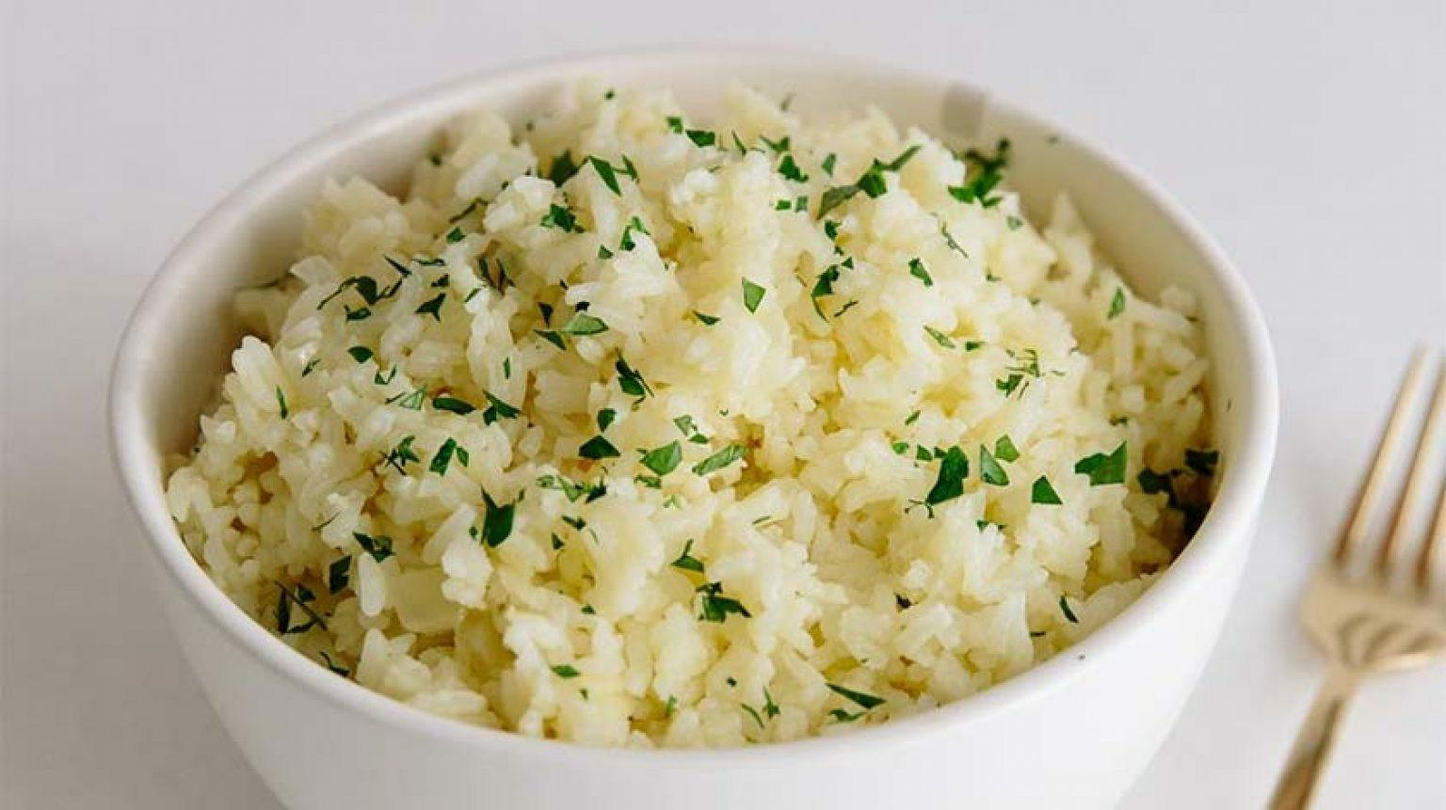WhiteRice: (167, 78, 1225, 746)
